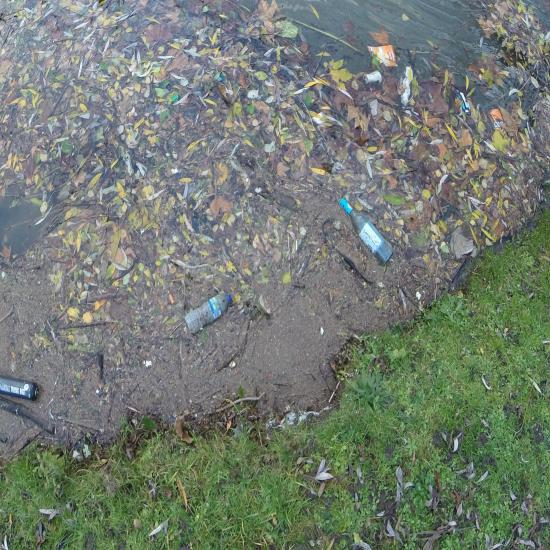Aerosol: (0, 374, 39, 400)
Clear plastic bottle: (339, 197, 393, 266), (185, 293, 232, 333)
Crisp packet: (367, 44, 398, 67), (488, 109, 506, 136)
Other plastic: (454, 89, 471, 116)
Other plastic bottle: (169, 295, 174, 304), (172, 94, 178, 101), (219, 77, 222, 81)
Unlabeled litter: (401, 67, 413, 106), (363, 70, 382, 85), (155, 111, 164, 116)
